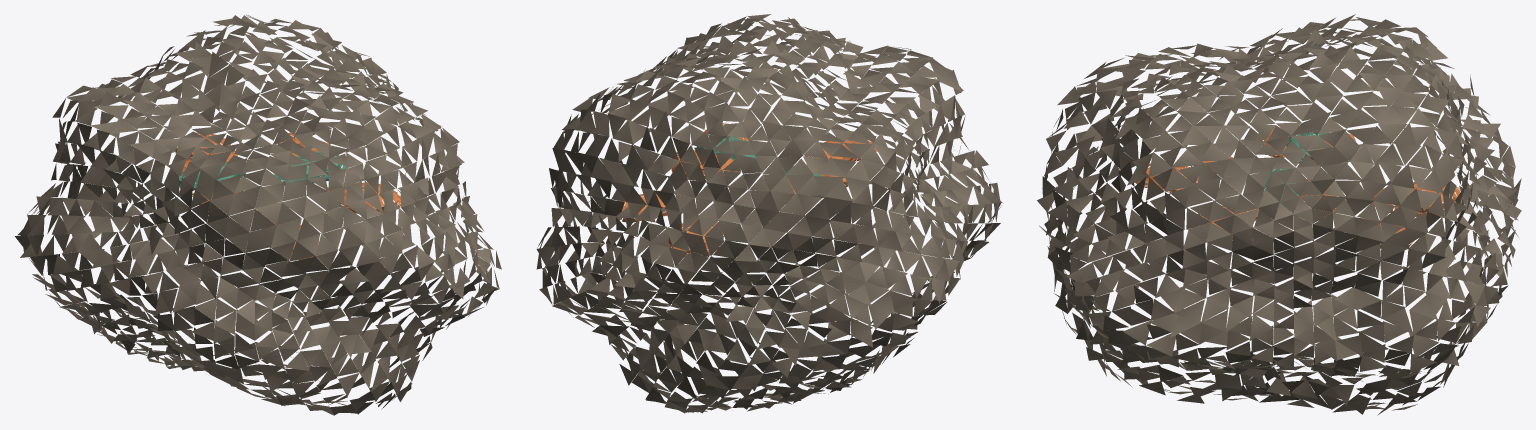
The model's file is small-lod0.glb.
The picture shows the model from 3 angles, left to right: view 1: azimuth 30°, elevation 25°; view 2: azimuth 150°, elevation 25°; view 3: azimuth 270°, elevation 25°; orthographic projection. The views are drawn at different scales.
Parts seen in each view (by area): view 1: copper-host-rock, copper-mineral-seams; view 2: copper-host-rock, copper-mineral-seams; view 3: copper-host-rock, copper-mineral-seams.
Part boxes in pixels (box(x1,y1,x2,y2)): copper-host-rock: box(15, 14, 501, 415); copper-mineral-seams: box(175, 132, 400, 260); copper-host-rock: box(536, 14, 1002, 413); copper-mineral-seams: box(617, 123, 877, 258); copper-host-rock: box(1037, 14, 1521, 415); copper-mineral-seams: box(1135, 126, 1462, 248).
Size of the model in its own units: 2.17 by 1.79 by 2.28.
